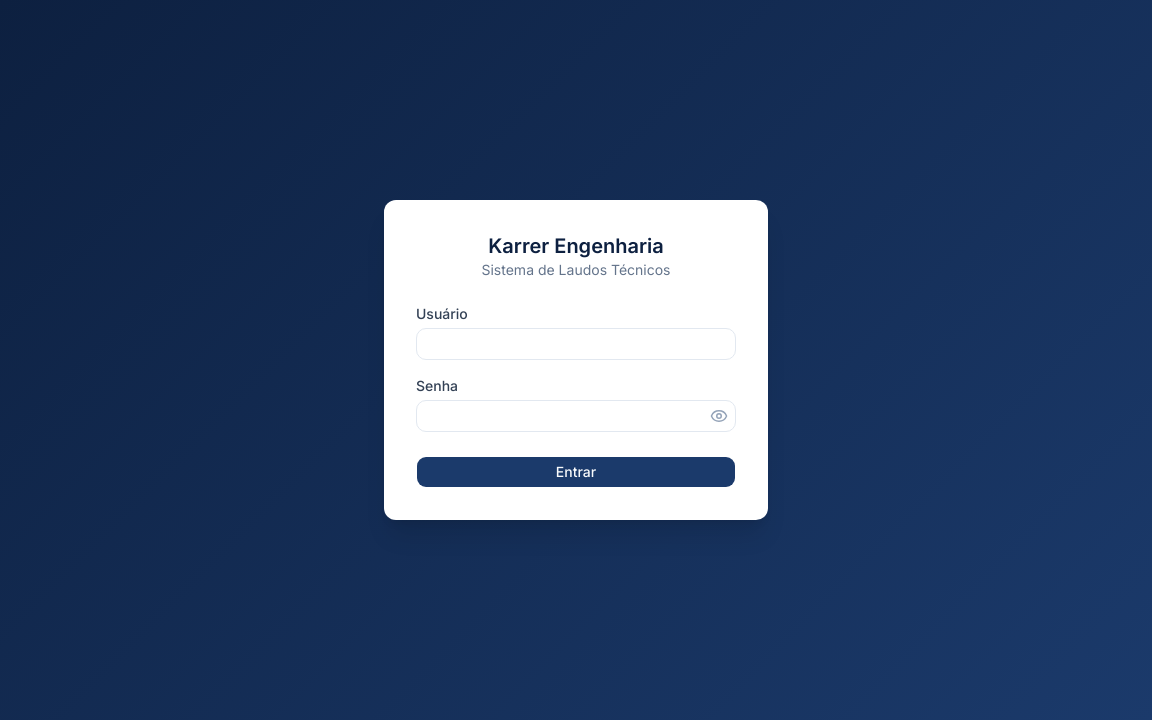
LoginPage › shows validation shake and error message on failed login when the app is configured
This screenshot has width=1152, height=720.
Type "bernardo" into the field labelled "Usuário". click: (576, 344)
box: [416,328,736,360]
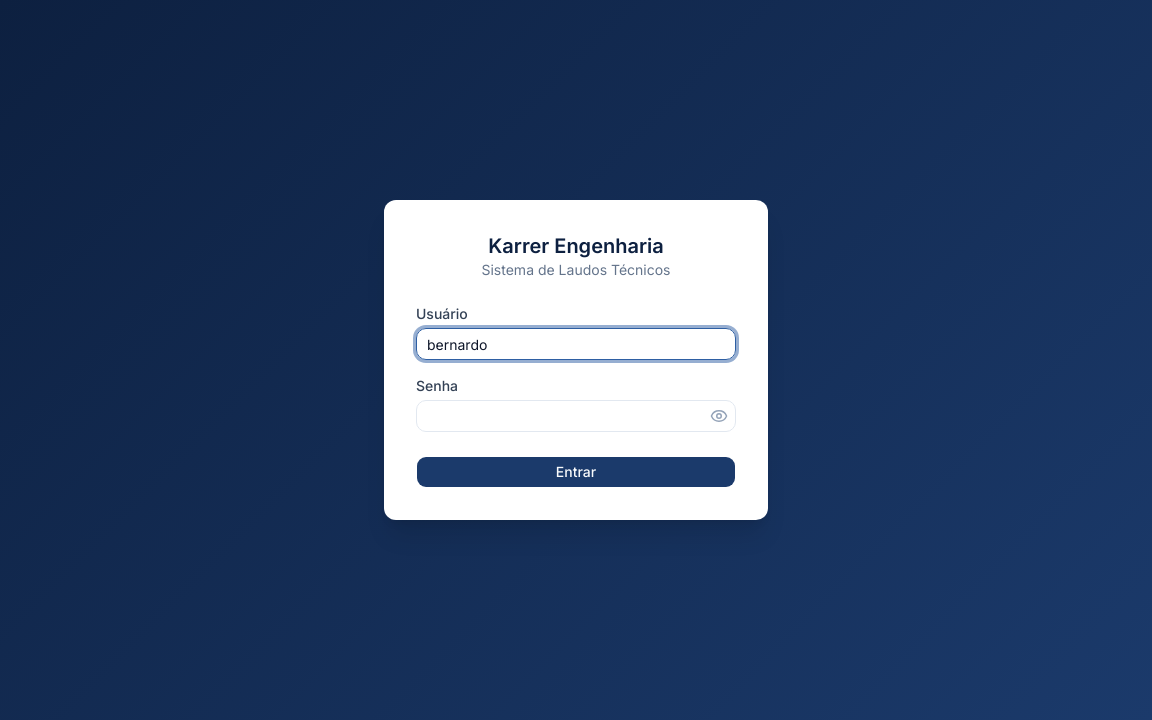
Type "errada" into the password field labelled "Senha". click: (576, 416)
box: [416,400,736,432]
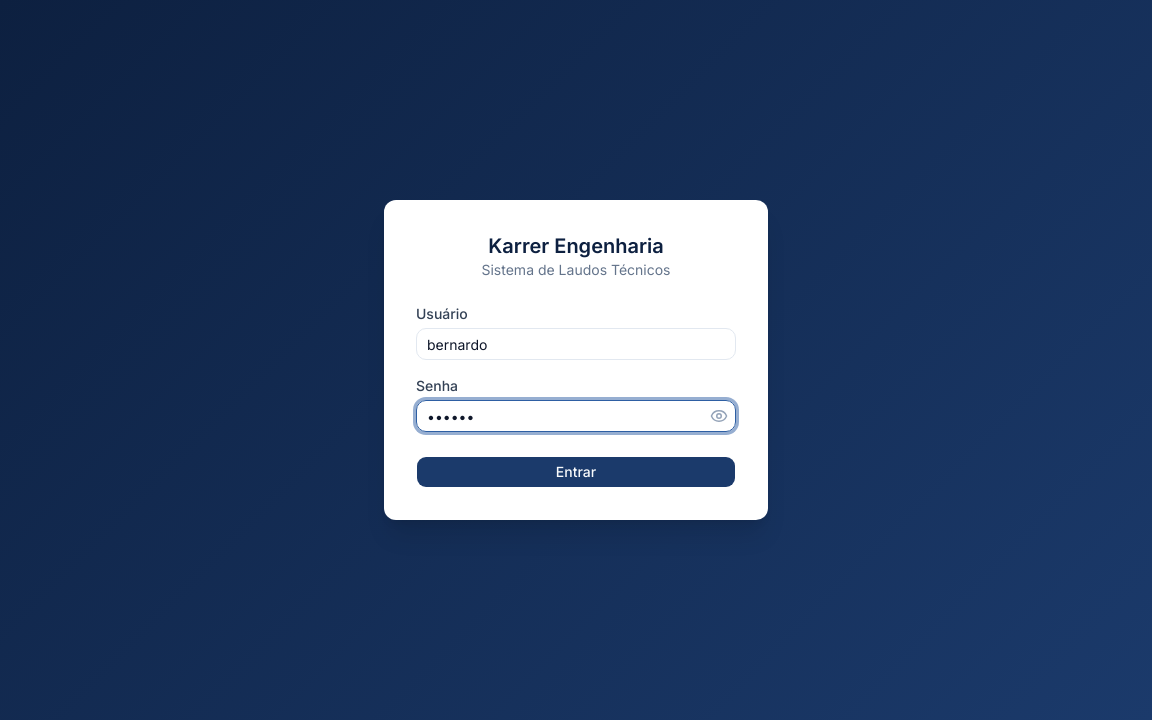
Click the button "Entrar". click: (576, 472)
box: [416,456,736,488]
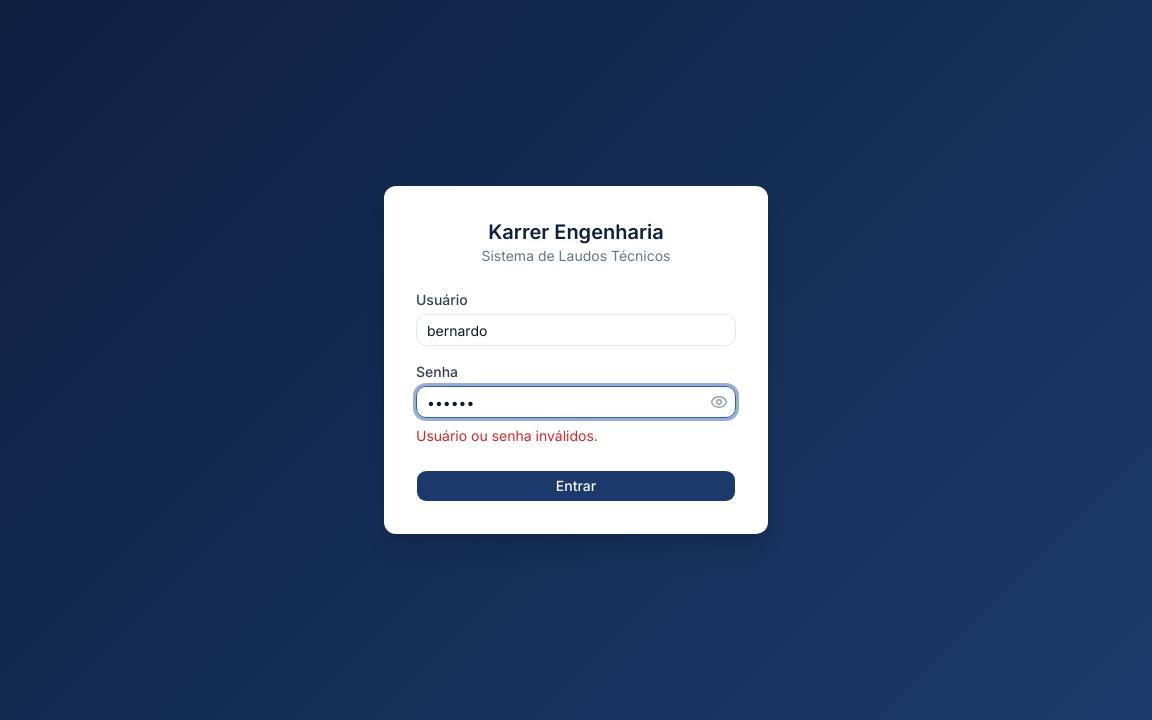
Now the text "Usuário ou senha inválidos." is shown, box [416,427,598,444]
